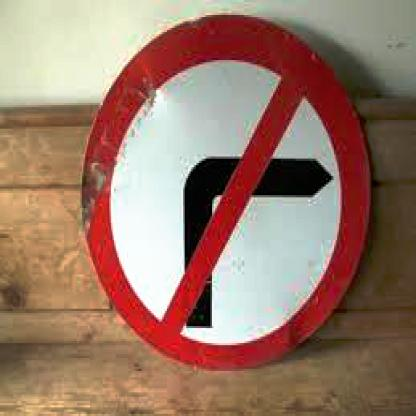No right turn: (83, 14, 374, 362)
